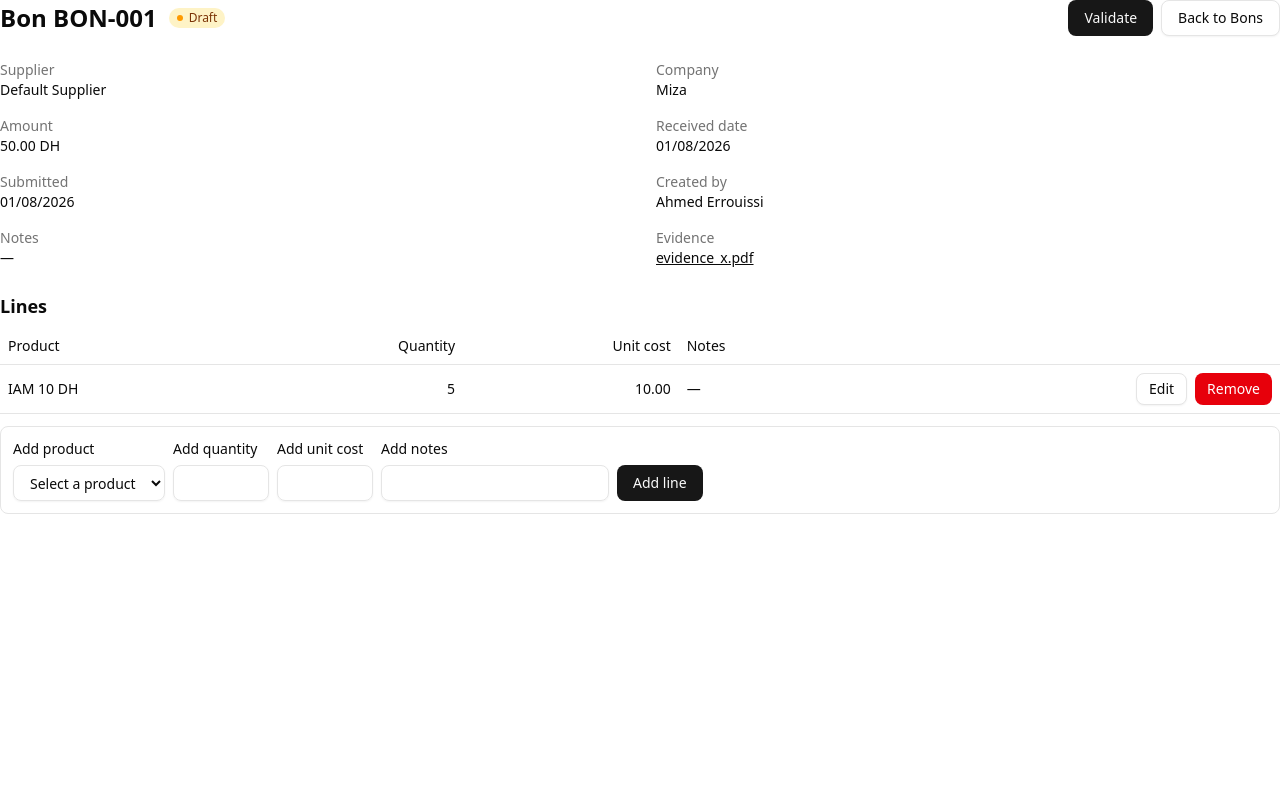
Validate — freshness rule (M4 · G4 closure) and error codes › blocks confirm and offers Retry when the freshness check itself fails
Click the button "Validate" at (1111, 18), box [1068,0,1153,36]
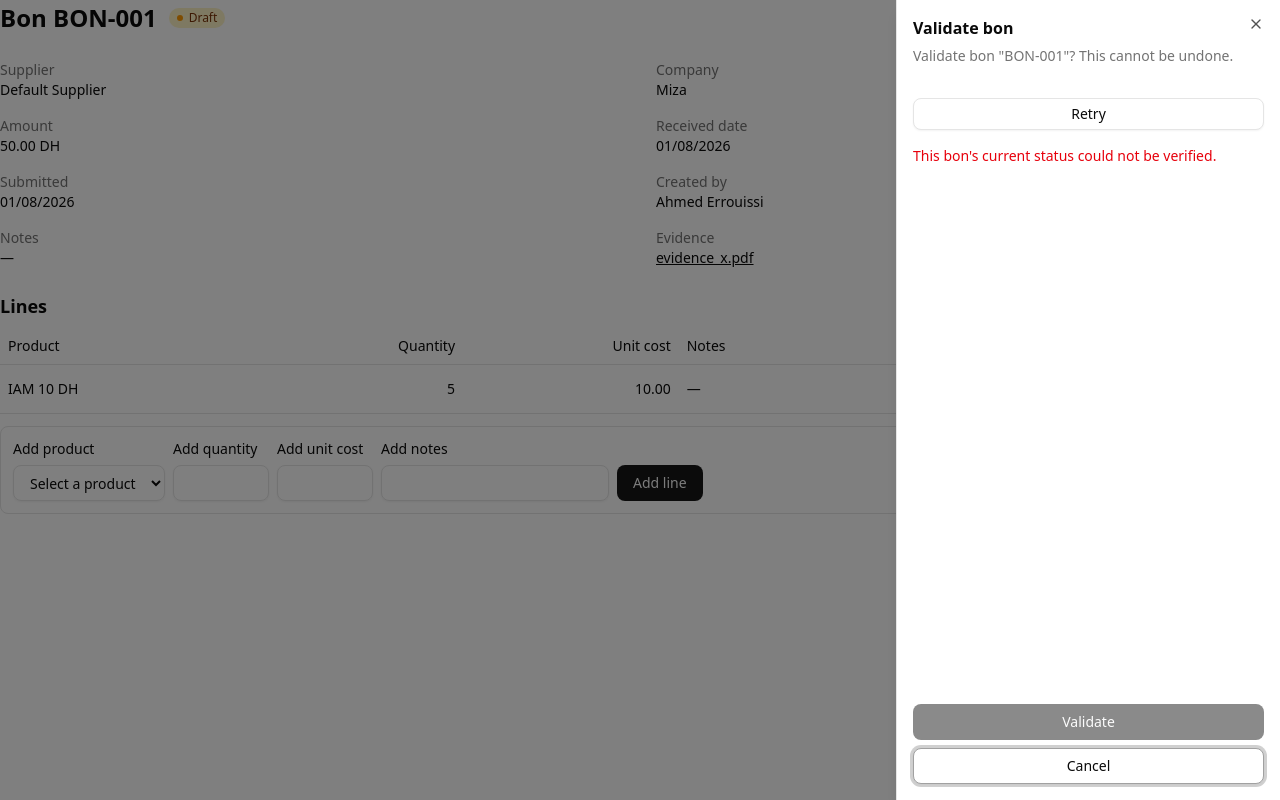
Now the text "This bon's current status could not be verified." is shown, box [913,146,1216,165]
Now the button "Retry" is shown, box [913,98,1264,130]
